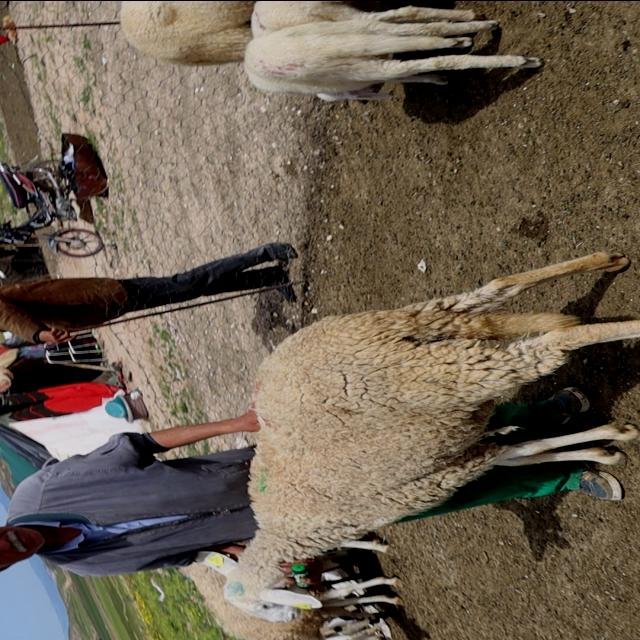Score_2: (196, 251, 639, 621)
